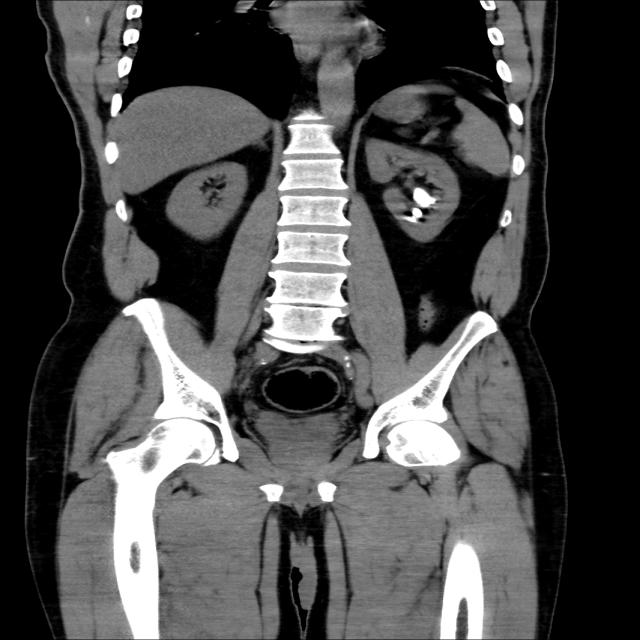kidneystone: (413, 188, 436, 208), (411, 208, 423, 218)
